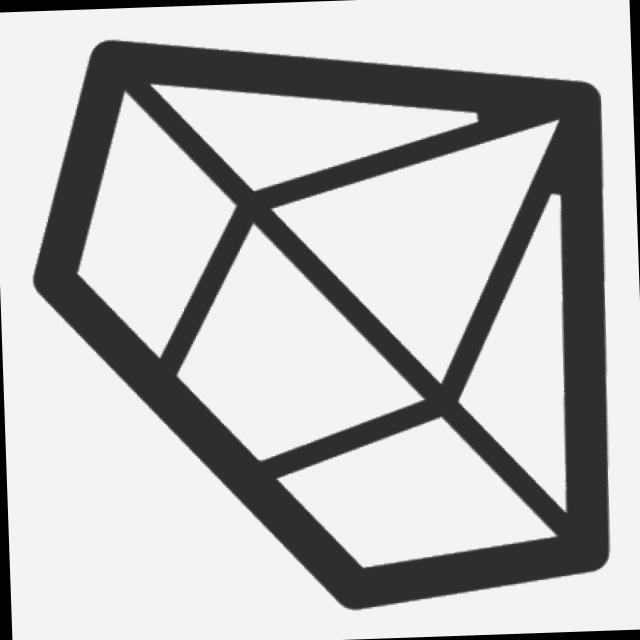diamond: (11, 17, 628, 638)
